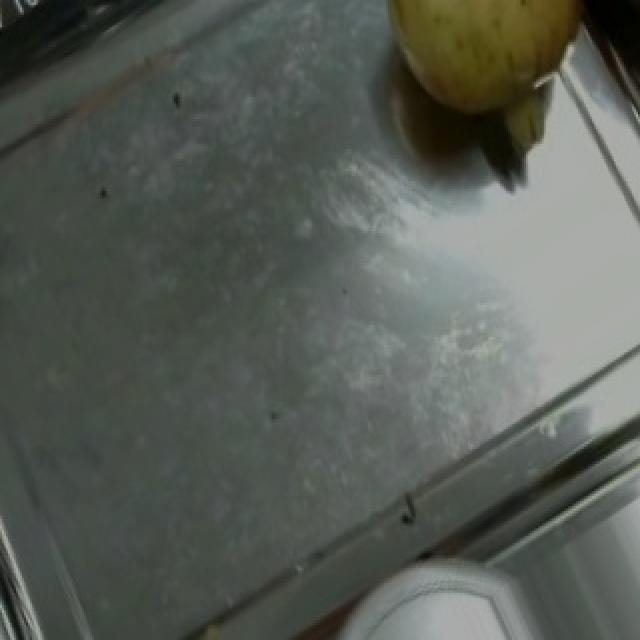fruit: (356, 0, 608, 144)
